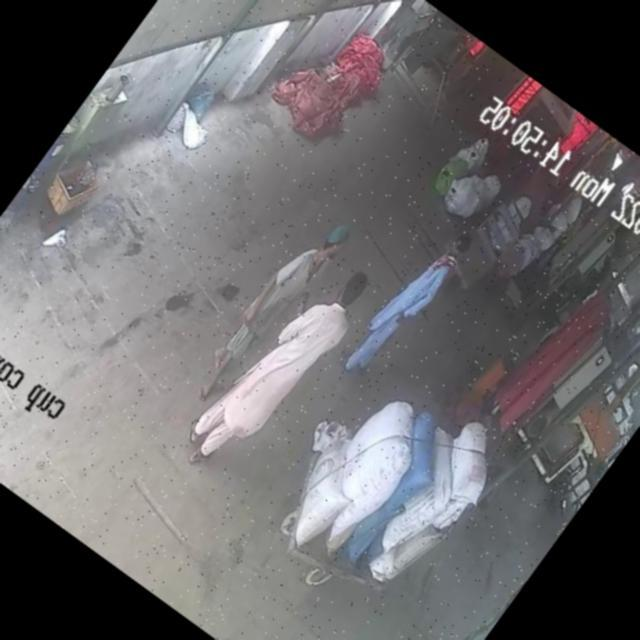person: (185, 240, 382, 480), (193, 211, 349, 404), (336, 214, 482, 394)
